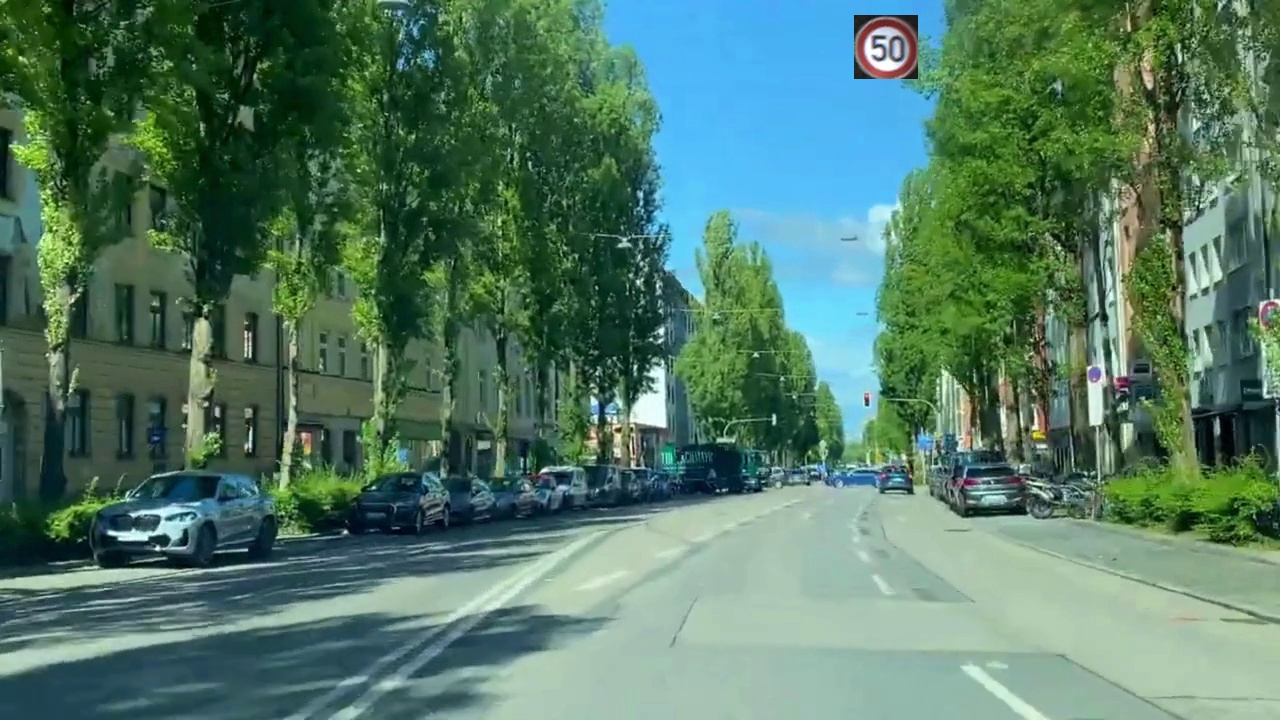Speed 50: (854, 15, 918, 79)
